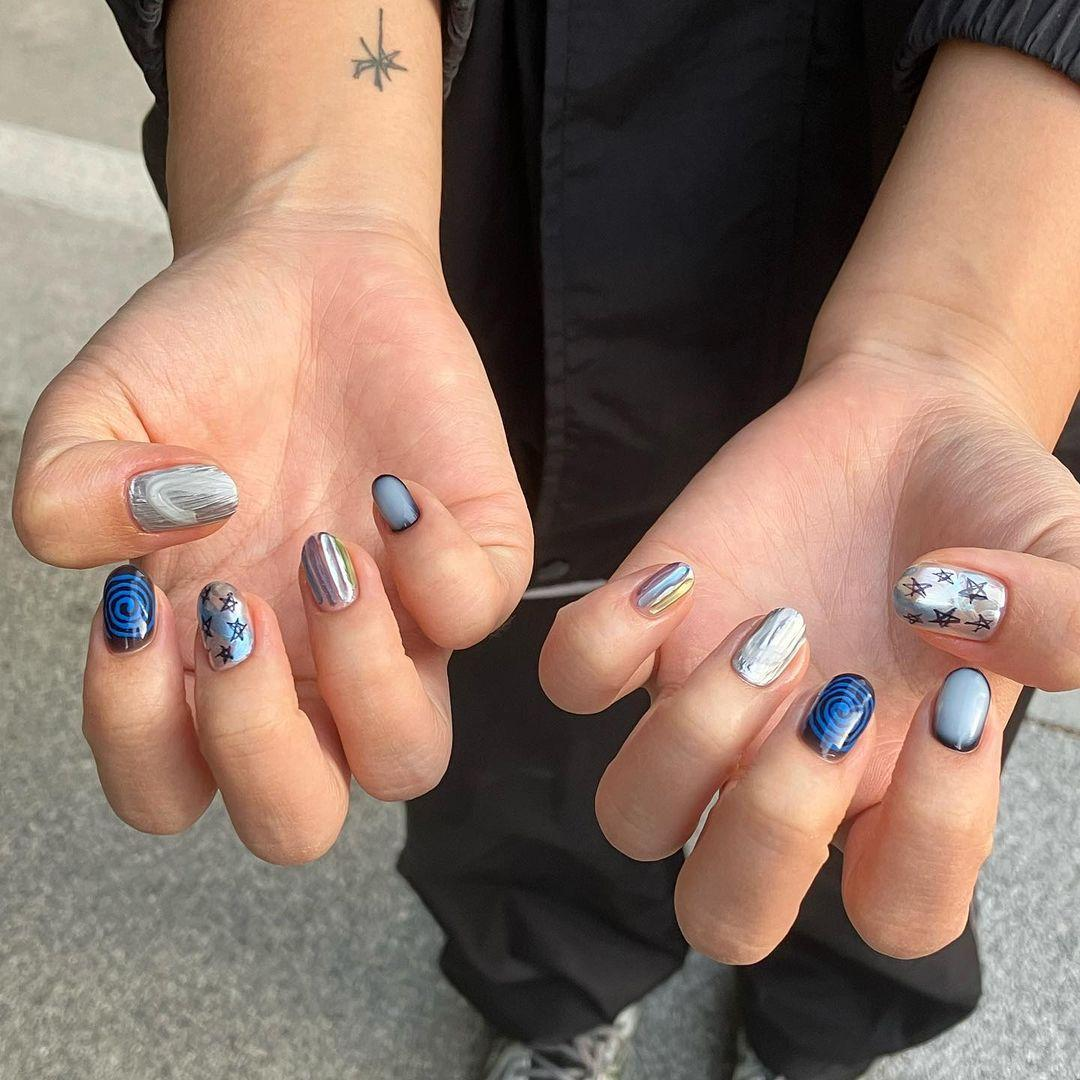nail: (891, 560, 1008, 642), (124, 461, 239, 533), (730, 605, 806, 687), (805, 671, 875, 760), (196, 580, 254, 671), (931, 665, 991, 752), (299, 530, 359, 612), (101, 563, 155, 652), (631, 560, 694, 617), (370, 472, 420, 532)
